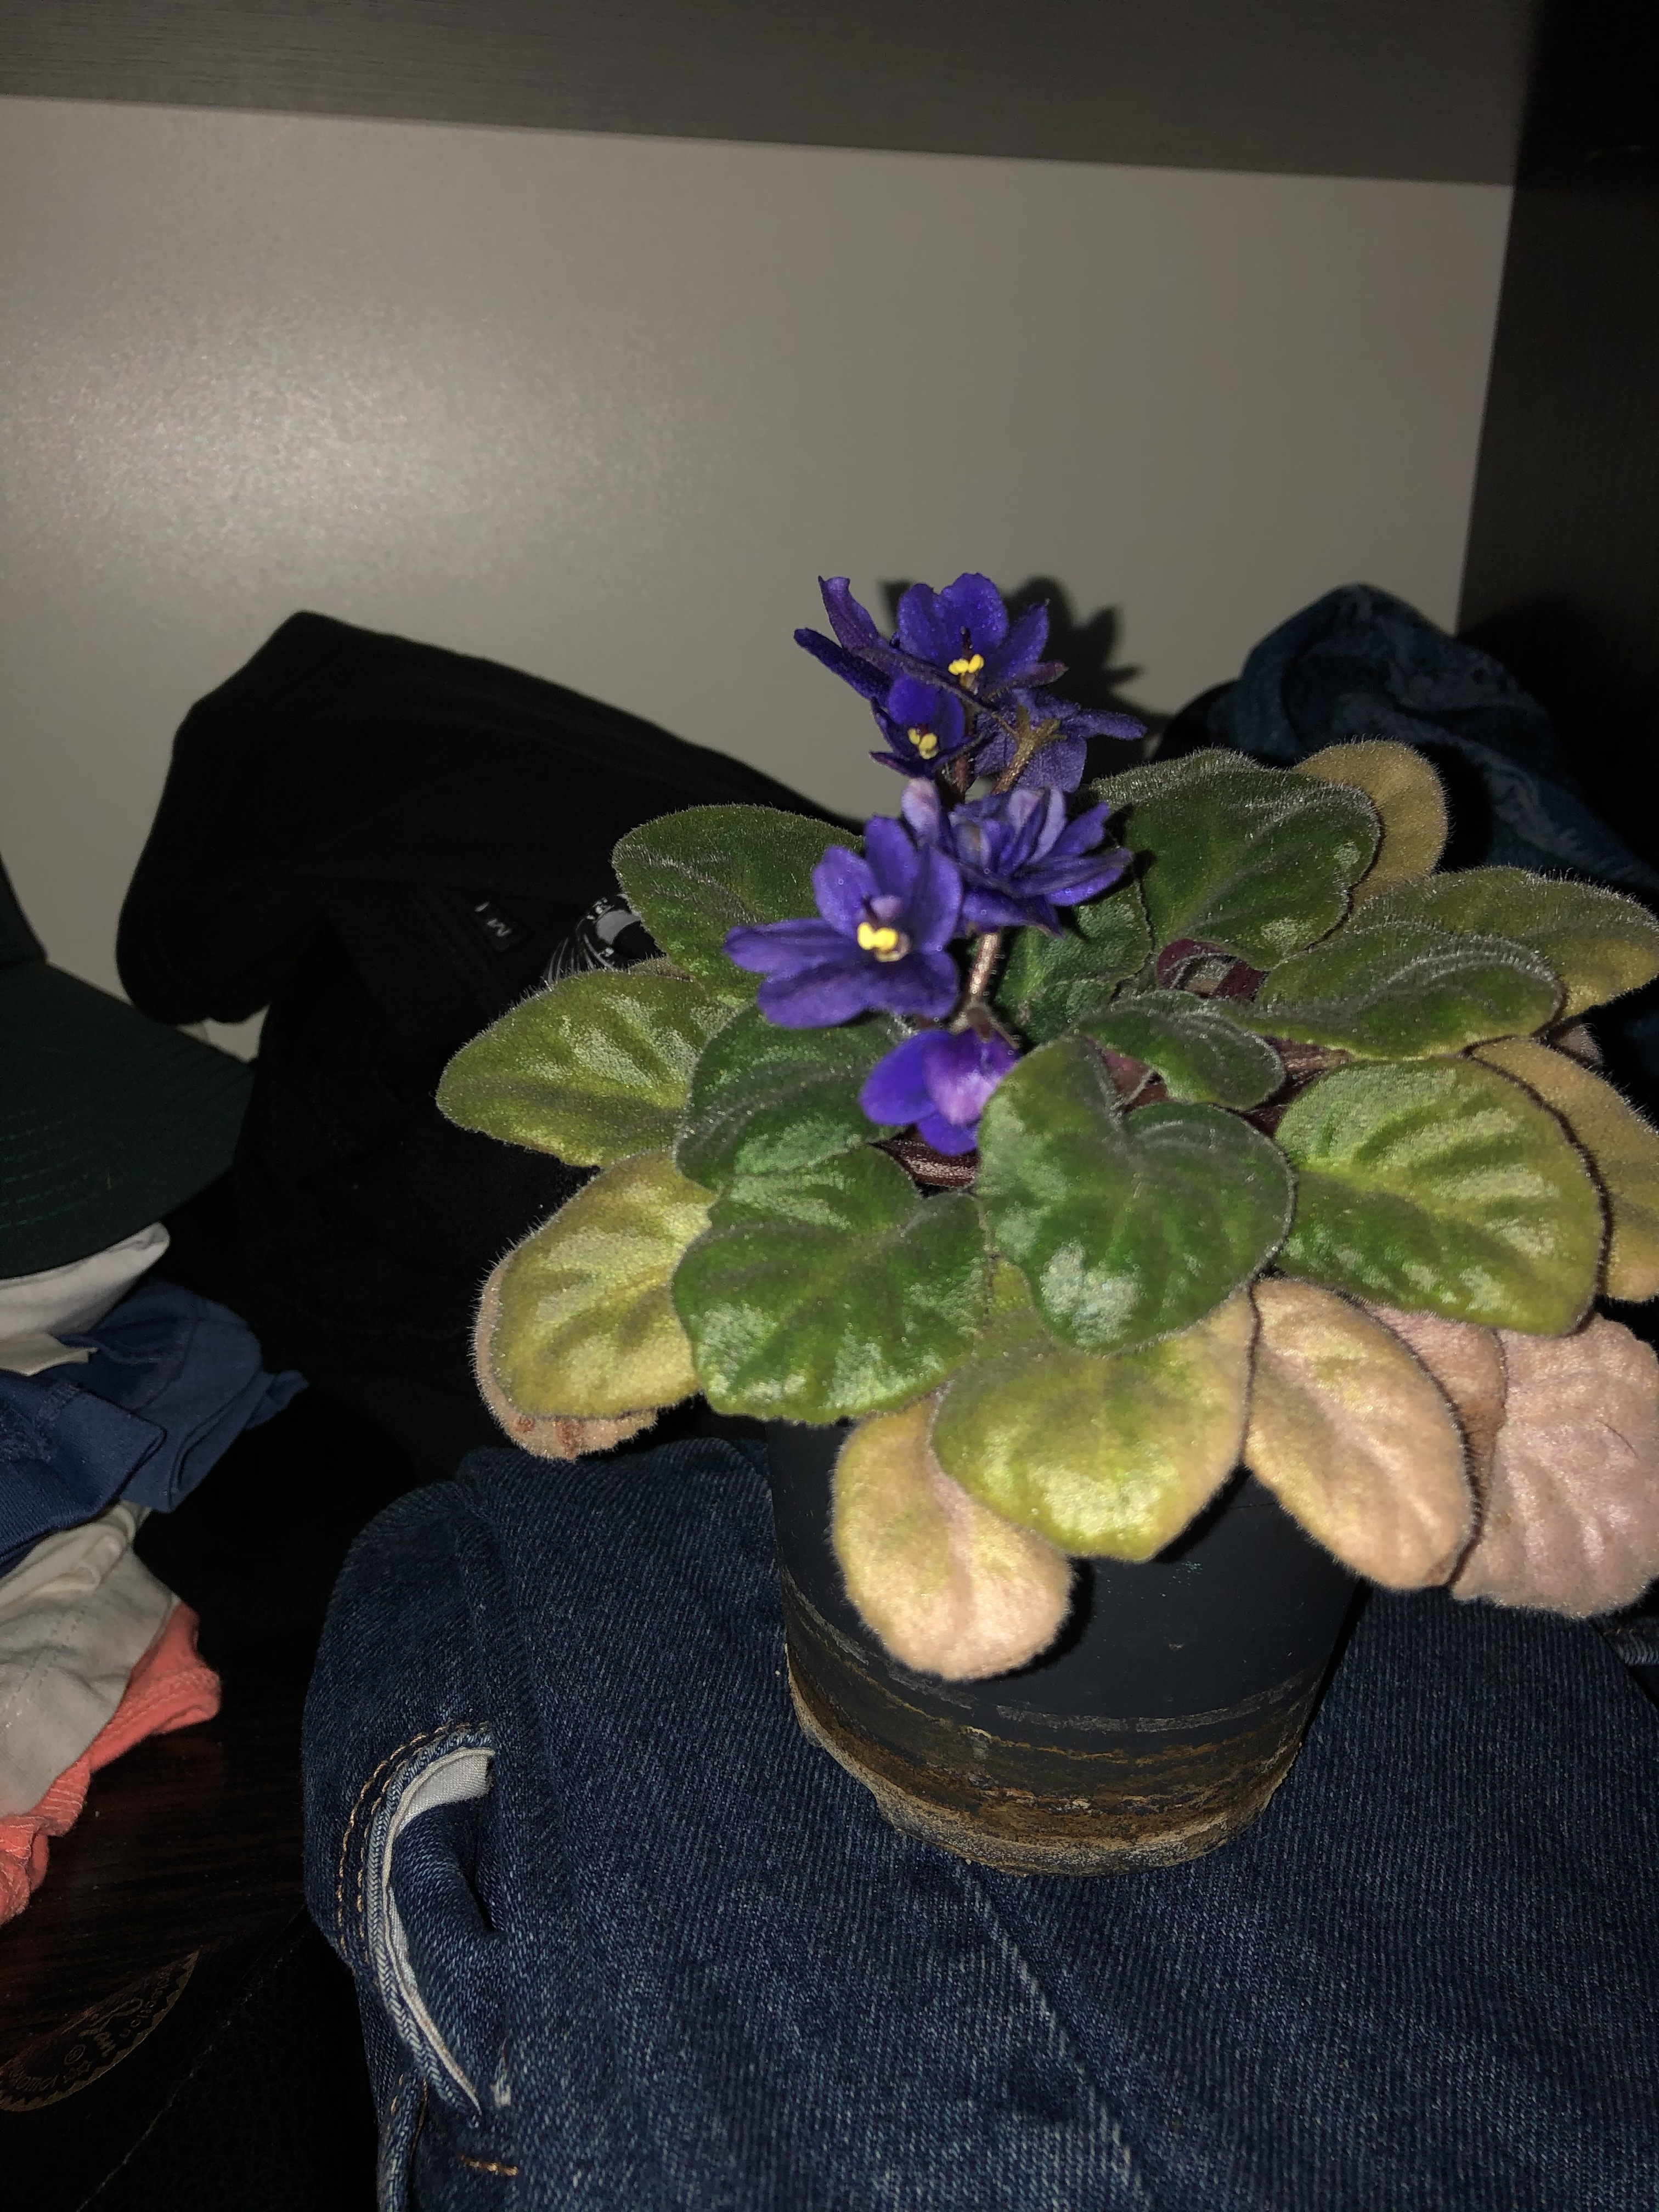ignore: (413, 540, 1628, 1601)
